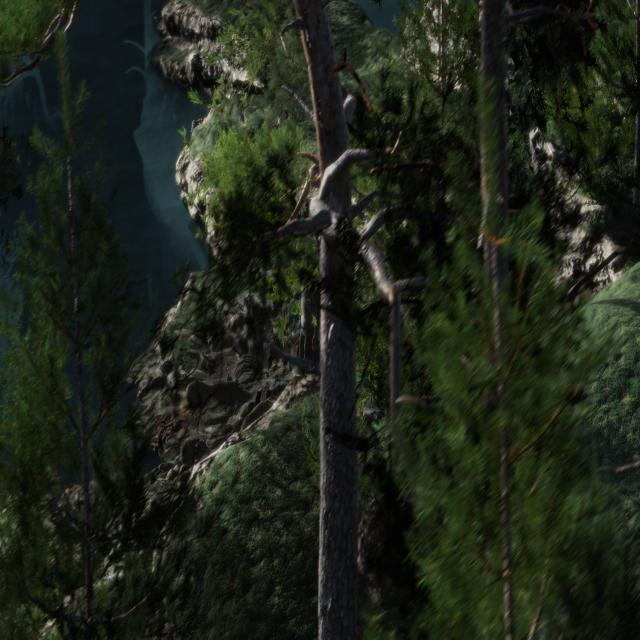Human: (286, 244, 321, 382)
